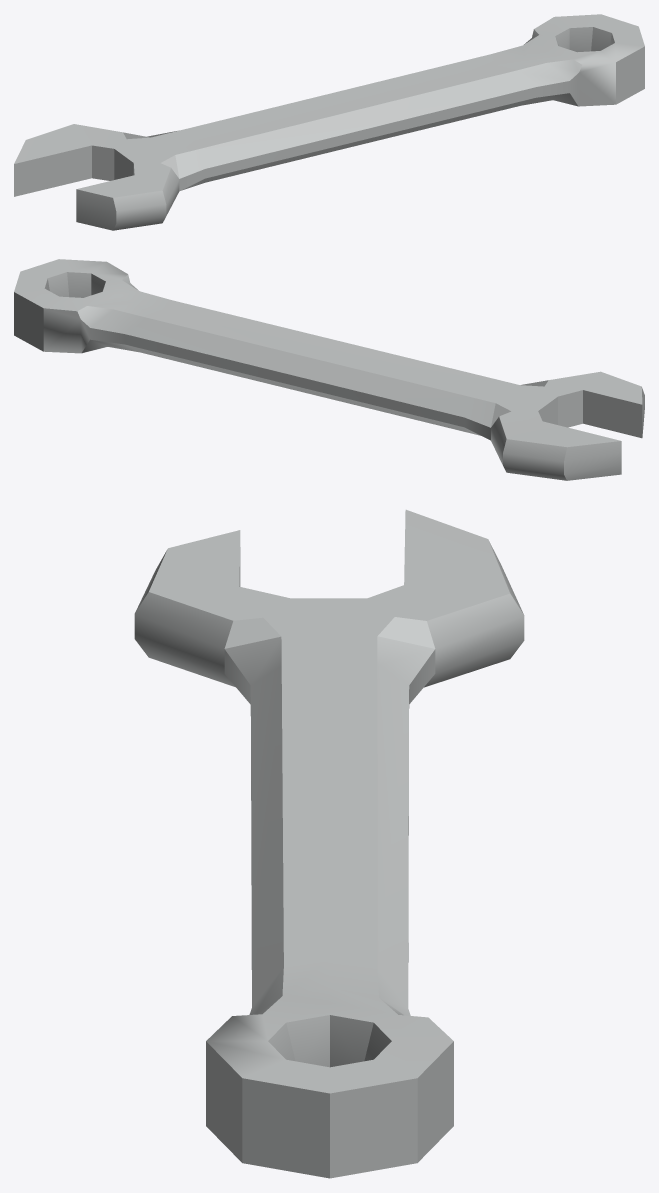
The model's file is wrench.fbx.
The picture shows the model from 3 angles, top to bottom: view 1: azimuth 30°, elevation 25°; view 2: azimuth 150°, elevation 25°; view 3: azimuth 270°, elevation 25°; orthographic projection. The views are drawn at different scales.
Visible parts, largest first — view 1: pCube2; view 2: pCube2; view 3: pCube2.
Part boxes in pixels (x1,y1,x2,y2): pCube2: [14, 14, 644, 230]; pCube2: [14, 259, 644, 480]; pCube2: [134, 509, 524, 1178].
Bounding box in the file's own units: 30.9 × 8.61 × 2.07.
Materials: 1 (1 with a texture image).
